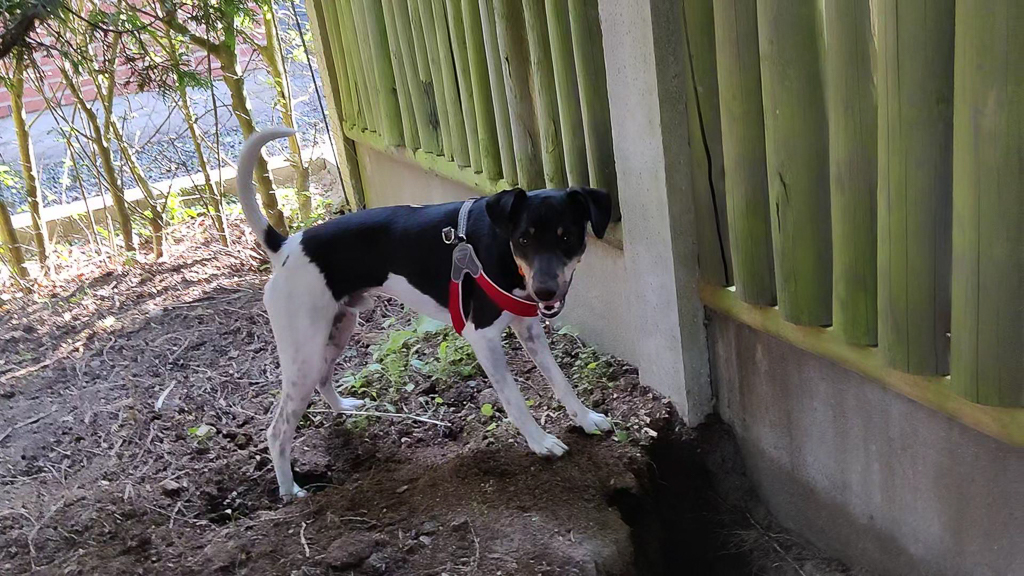Dog: (210, 110, 648, 513)
